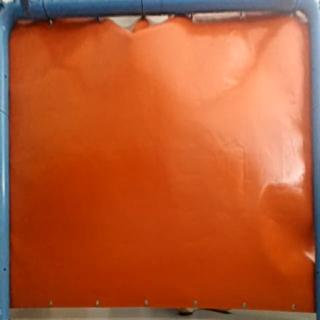Hit-hRxx: (124, 32, 140, 47)
